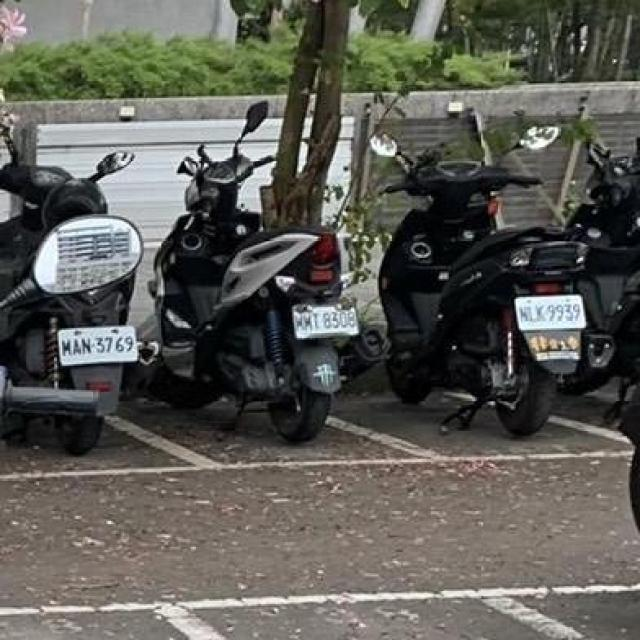W: (52, 320, 144, 369), (508, 289, 592, 336), (283, 297, 364, 343)
